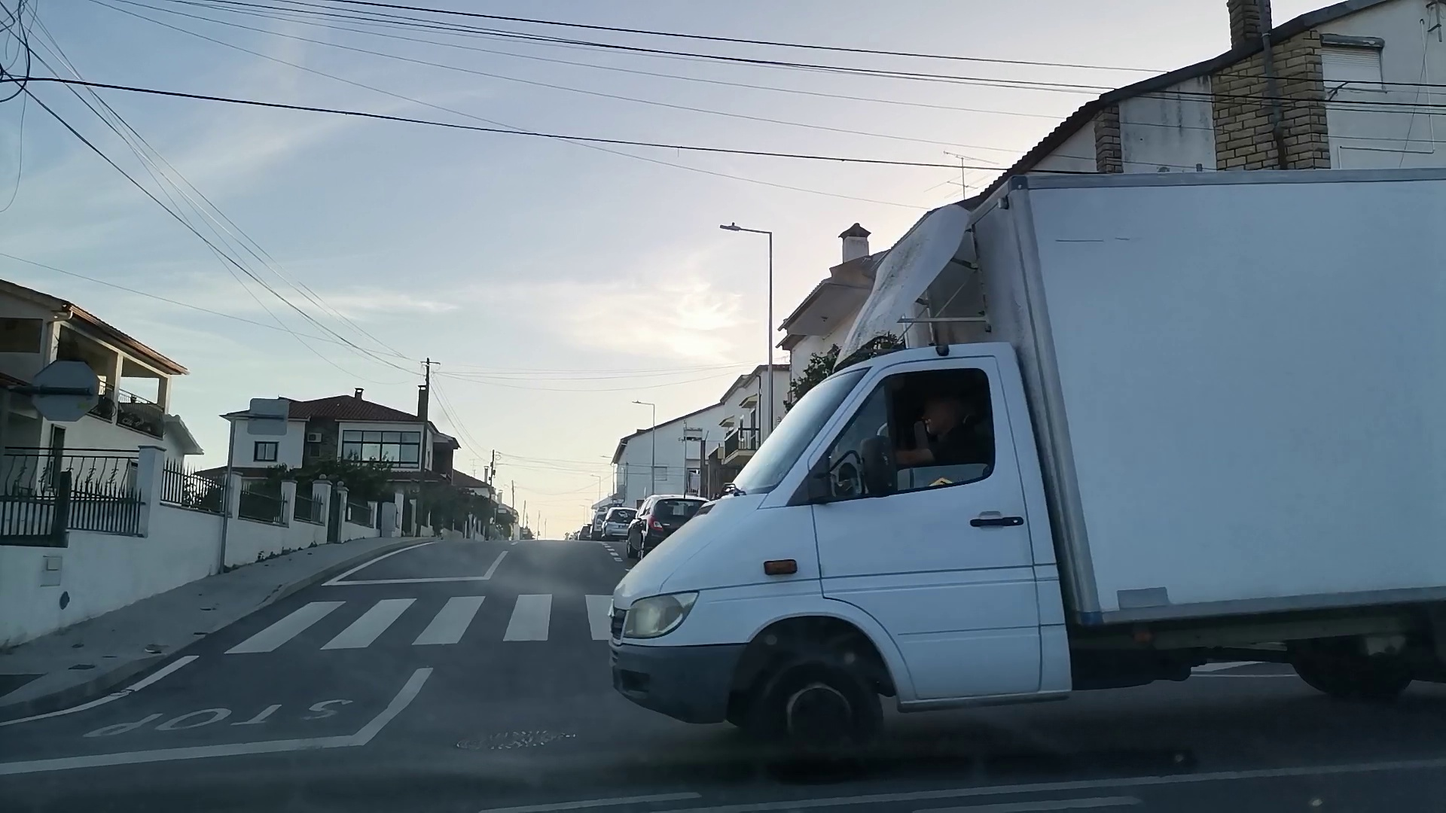Stairs: (252, 586, 636, 664)
